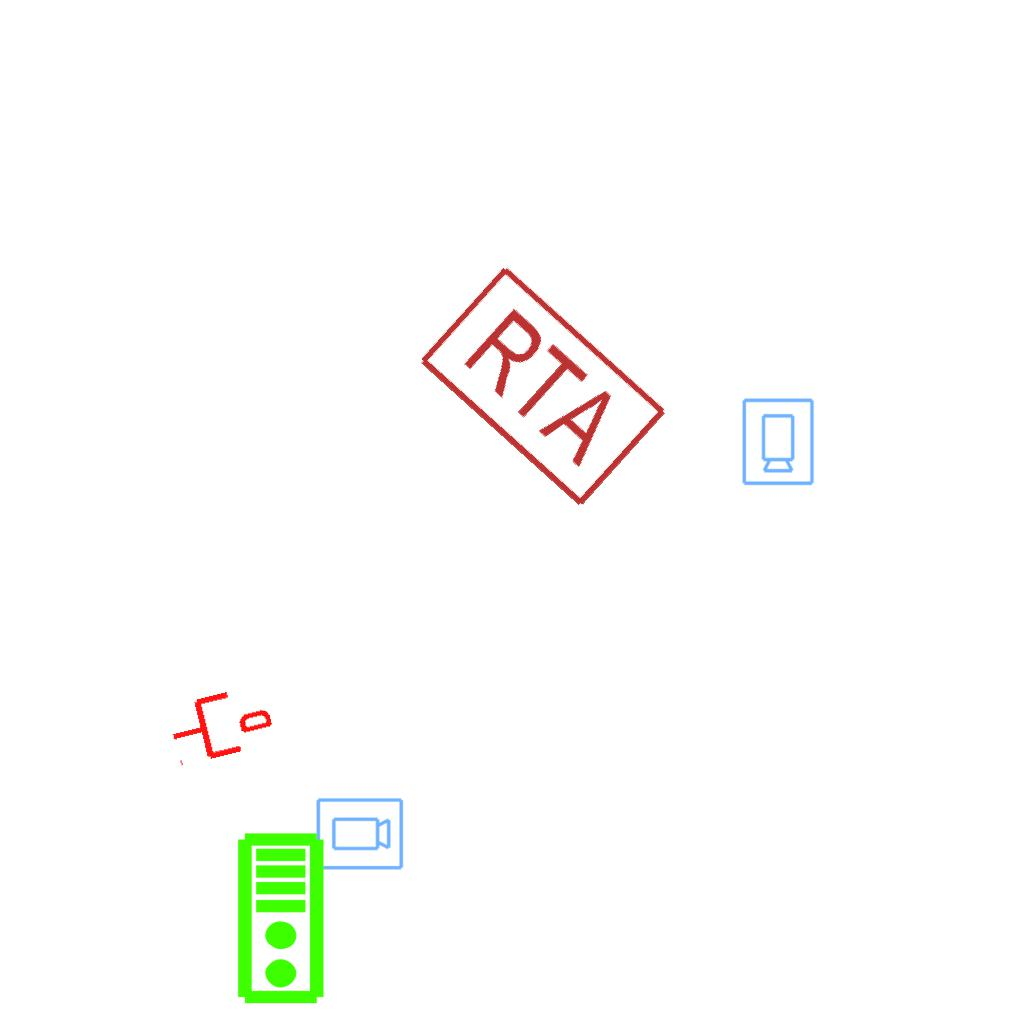Datenanschluss_einfach: (163, 679, 278, 771)
Gegensprechanlage_mit_Video: (235, 831, 330, 1007)
KFO_Kamera_mit_Festobjektiv: (739, 396, 816, 487), (314, 796, 405, 873)
Ruf-und_Abstelltaster: (410, 257, 672, 513)
